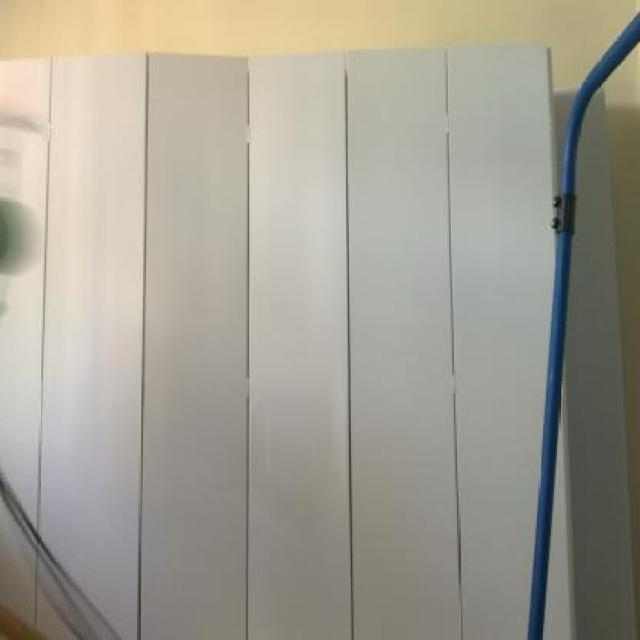baseball: (0, 198, 54, 290)
